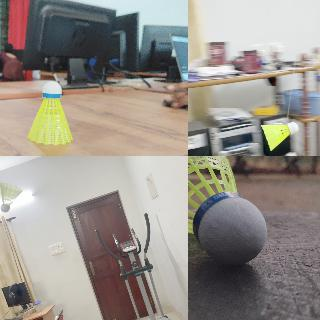shuttlecock: (188, 156, 266, 262), (27, 80, 72, 144), (260, 122, 298, 150), (0, 182, 22, 212)
